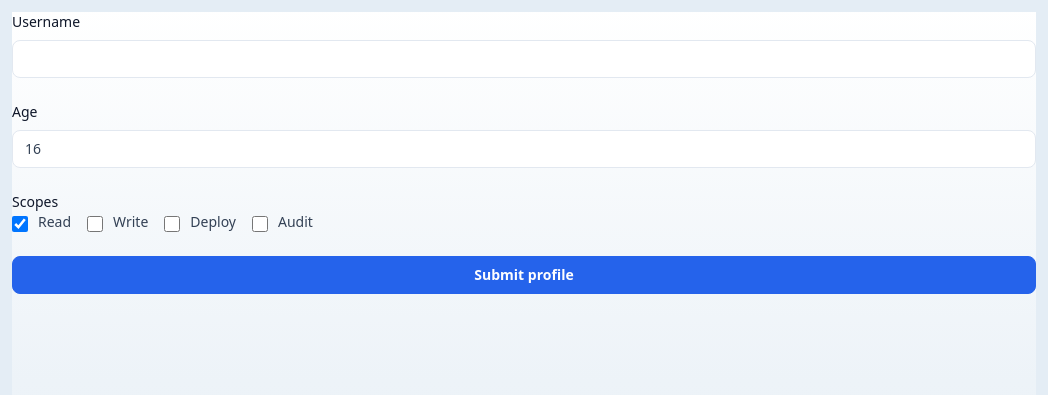
Test: Runtime shared state store › applies ordered local validations on submit for text, number, and multiselect fields
Click the button "Submit profile" at (524, 275), box top-left (12, 256), bottom-right (1036, 294)
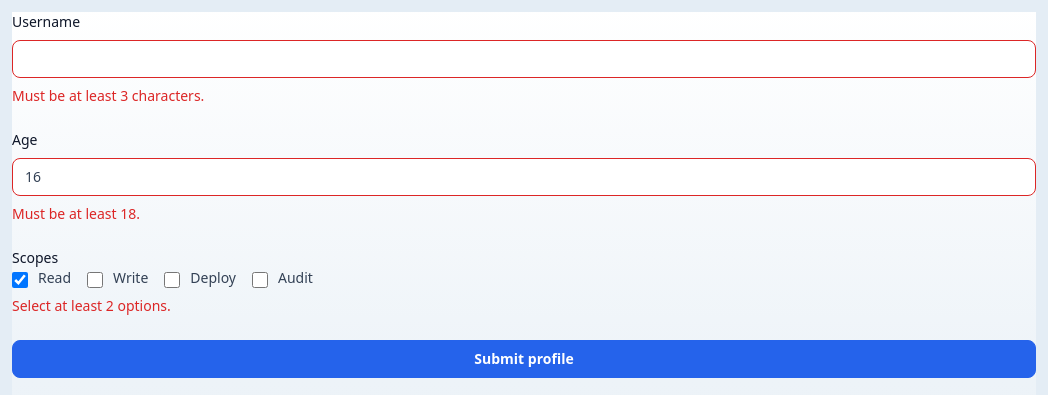
Result: the text "Must be at least 3 characters." is shown at top-left (12, 86), bottom-right (204, 105)
Result: the text "Must be at least 18." is shown at top-left (12, 204), bottom-right (140, 223)
Result: the text "Select at least 2 options." is shown at top-left (12, 296), bottom-right (171, 315)
Type "abcdef" into the field labelled "Username Must be at least 3 characters." at (524, 59), box top-left (12, 40), bottom-right (1036, 78)
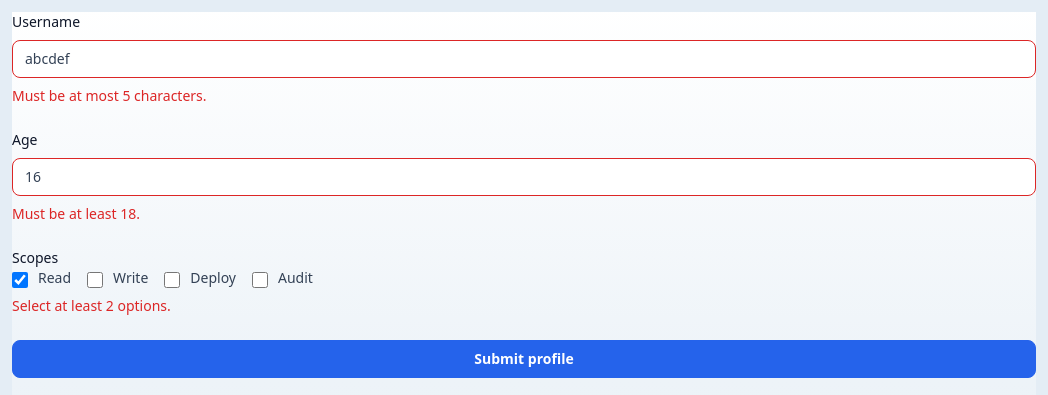
Replace the text in the number field labelled "Age Must be at least 18." with "70" at (524, 177), box top-left (12, 158), bottom-right (1036, 196)
Click the checkbox labelled "Write" at (95, 280), box top-left (87, 272), bottom-right (103, 288)
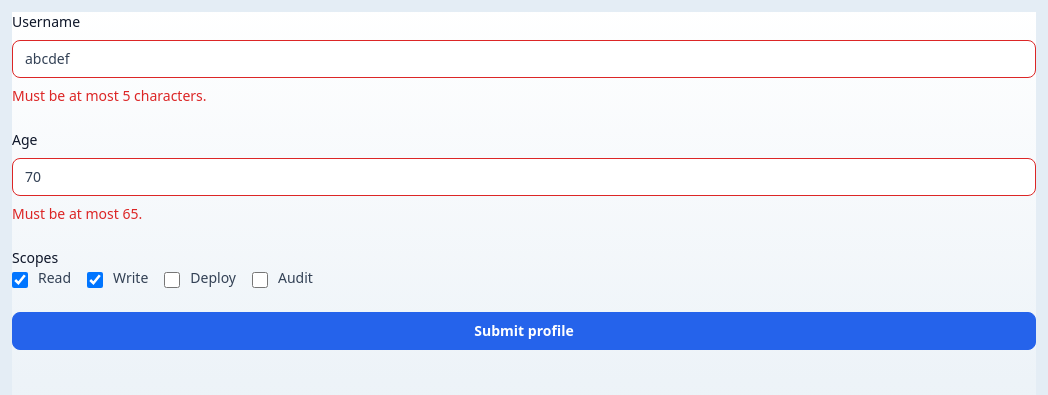
Click the checkbox labelled "Deploy" at (172, 280), box top-left (164, 272), bottom-right (180, 288)
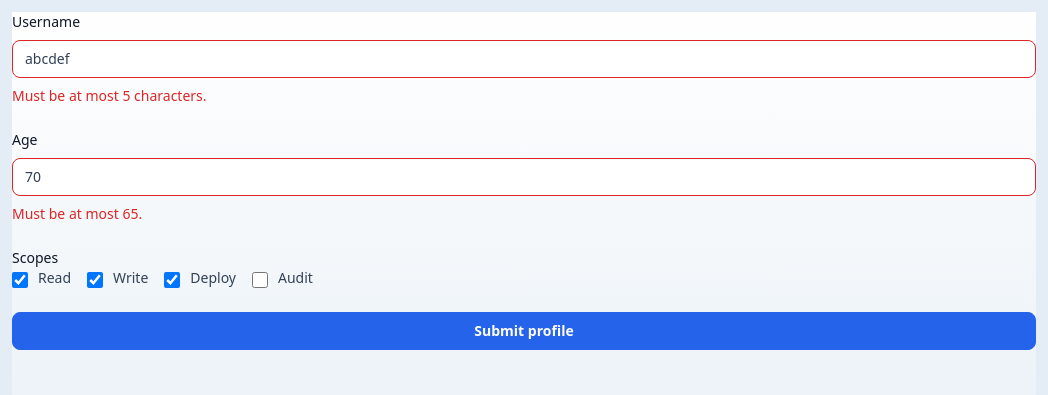
Click the checkbox labelled "Audit" at (260, 280), box top-left (252, 272), bottom-right (268, 288)
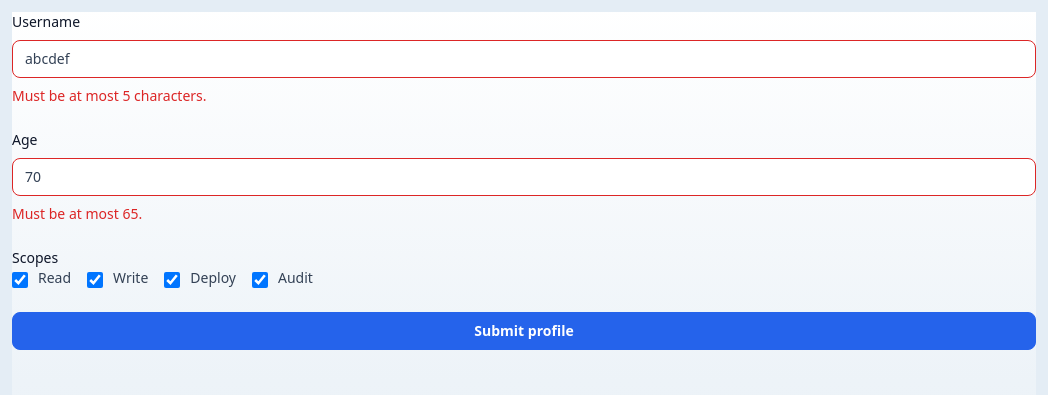
Click the button "Submit profile" at (524, 331), box top-left (12, 312), bottom-right (1036, 350)
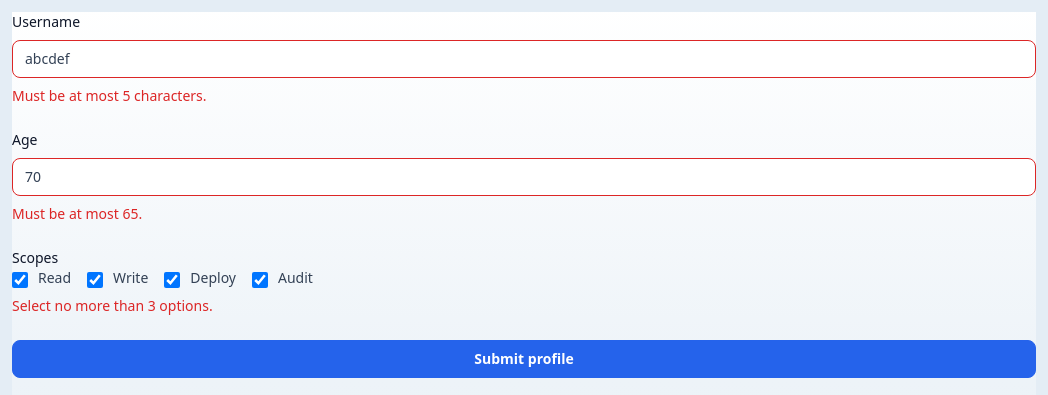
Result: the text "Must be at most 5 characters." is shown at top-left (12, 86), bottom-right (206, 105)
Result: the text "Must be at most 65." is shown at top-left (12, 204), bottom-right (142, 223)
Result: the text "Select no more than 3 options." is shown at top-left (12, 296), bottom-right (213, 315)
